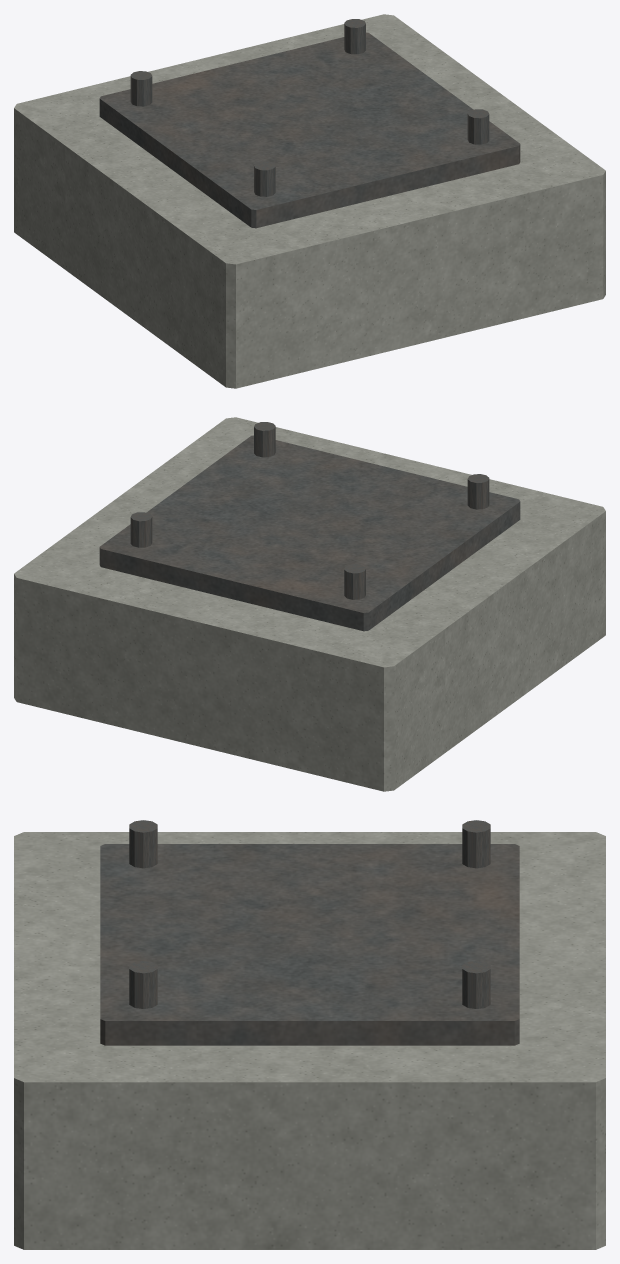
Rendered from PZ_ColumnCap_0400.glb.
3 views of the same model, one above another, from view 1: azimuth 30°, elevation 25°; view 2: azimuth 150°, elevation 25°; view 3: azimuth 270°, elevation 25° (orthographic). The views are drawn at different scales.
Parts seen in each view (by area): view 1: RENDER_PZ_ColumnCap_0400__RENDER_Concrete_Cap__000, RENDER_PZ_ColumnCap_0400__RENDER_Steel_Bearing_Plate__001, RENDER_PZ_ColumnCap_0400__RENDER_Stud_3__004, RENDER_PZ_ColumnCap_0400__RENDER_Stud_2__003, RENDER_PZ_ColumnCap_0400__RENDER_Stud_4__005, RENDER_PZ_ColumnCap_0400__RENDER_Stud_1__002; view 2: RENDER_PZ_ColumnCap_0400__RENDER_Concrete_Cap__000, RENDER_PZ_ColumnCap_0400__RENDER_Steel_Bearing_Plate__001, RENDER_PZ_ColumnCap_0400__RENDER_Stud_4__005, RENDER_PZ_ColumnCap_0400__RENDER_Stud_1__002, RENDER_PZ_ColumnCap_0400__RENDER_Stud_3__004, RENDER_PZ_ColumnCap_0400__RENDER_Stud_2__003; view 3: RENDER_PZ_ColumnCap_0400__RENDER_Concrete_Cap__000, RENDER_PZ_ColumnCap_0400__RENDER_Steel_Bearing_Plate__001, RENDER_PZ_ColumnCap_0400__RENDER_Stud_1__002, RENDER_PZ_ColumnCap_0400__RENDER_Stud_2__003, RENDER_PZ_ColumnCap_0400__RENDER_Stud_3__004, RENDER_PZ_ColumnCap_0400__RENDER_Stud_4__005.
Part boxes in pixels (x1,y1,x2,y2): RENDER_PZ_ColumnCap_0400__RENDER_Concrete_Cap__000: (14,14,605,388); RENDER_PZ_ColumnCap_0400__RENDER_Steel_Bearing_Plate__001: (99,32,520,228); RENDER_PZ_ColumnCap_0400__RENDER_Stud_3__004: (467,109,489,144); RENDER_PZ_ColumnCap_0400__RENDER_Stud_2__003: (130,71,152,106); RENDER_PZ_ColumnCap_0400__RENDER_Stud_4__005: (344,19,365,54); RENDER_PZ_ColumnCap_0400__RENDER_Stud_1__002: (254,161,275,196); RENDER_PZ_ColumnCap_0400__RENDER_Concrete_Cap__000: (14,417,605,791); RENDER_PZ_ColumnCap_0400__RENDER_Steel_Bearing_Plate__001: (99,435,520,631); RENDER_PZ_ColumnCap_0400__RENDER_Stud_4__005: (130,512,152,547); RENDER_PZ_ColumnCap_0400__RENDER_Stud_1__002: (467,474,489,509); RENDER_PZ_ColumnCap_0400__RENDER_Stud_3__004: (254,422,275,457); RENDER_PZ_ColumnCap_0400__RENDER_Stud_2__003: (344,564,365,599); RENDER_PZ_ColumnCap_0400__RENDER_Concrete_Cap__000: (14,832,605,1249); RENDER_PZ_ColumnCap_0400__RENDER_Steel_Bearing_Plate__001: (100,844,519,1045); RENDER_PZ_ColumnCap_0400__RENDER_Stud_1__002: (129,820,157,868); RENDER_PZ_ColumnCap_0400__RENDER_Stud_2__003: (462,820,490,868); RENDER_PZ_ColumnCap_0400__RENDER_Stud_3__004: (129,961,157,1008); RENDER_PZ_ColumnCap_0400__RENDER_Stud_4__005: (462,961,490,1008).
Size of the model in its own units: 0.48 by 0.204 by 0.48.
Materials: 2 (2 with a texture image).
